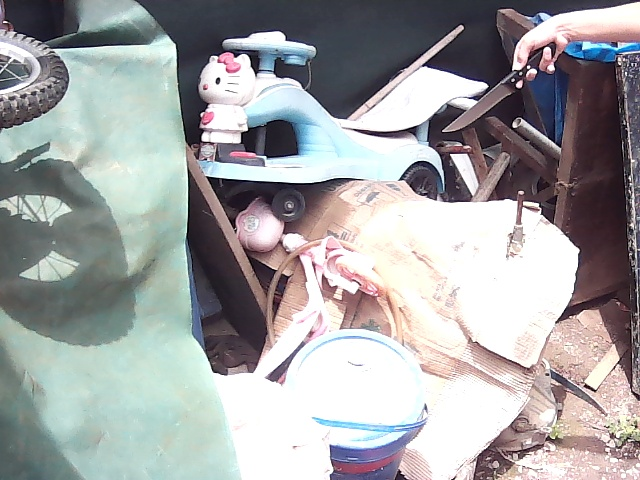cuchillo: (438, 52, 545, 137)
